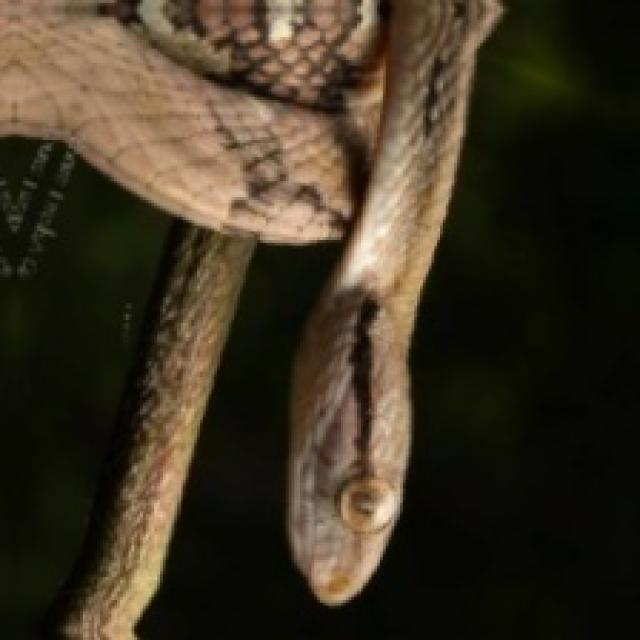dog-toothed cat snake: (0, 0, 500, 637)
